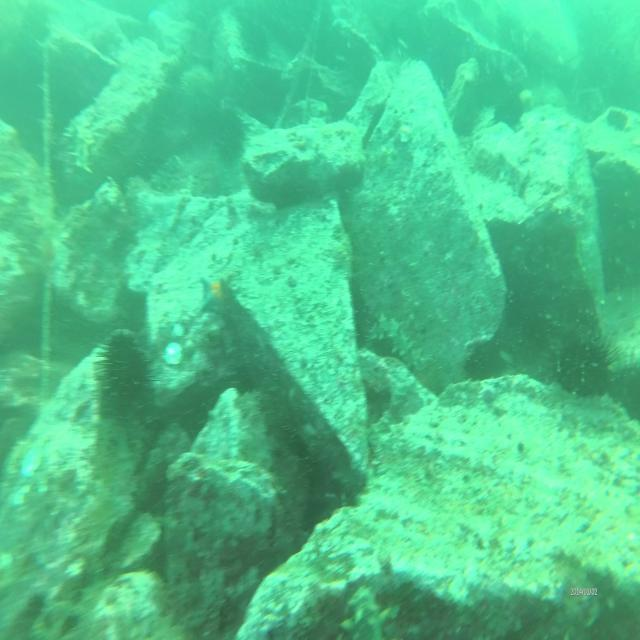echinus: (95, 322, 153, 422), (555, 316, 619, 399), (465, 330, 509, 385), (212, 108, 247, 167)
holothurian: (367, 307, 422, 378), (344, 580, 391, 640), (64, 103, 98, 177)
starfish: (200, 270, 226, 316)
